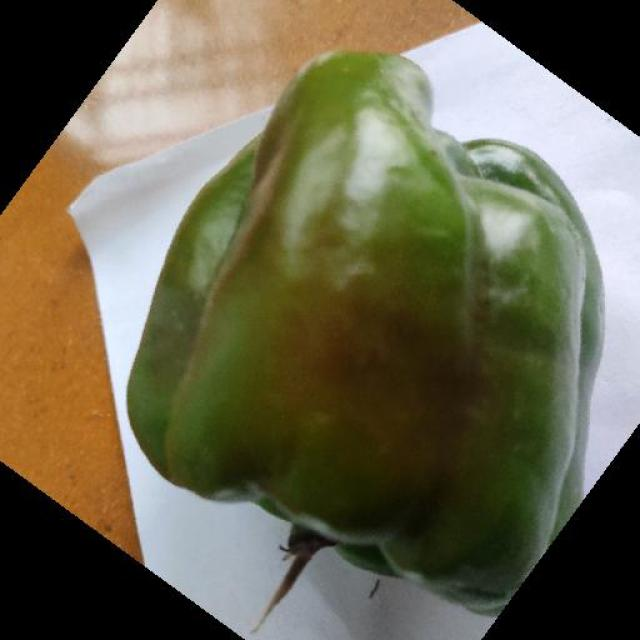Stale_Capsicum: (76, 124, 640, 586)
